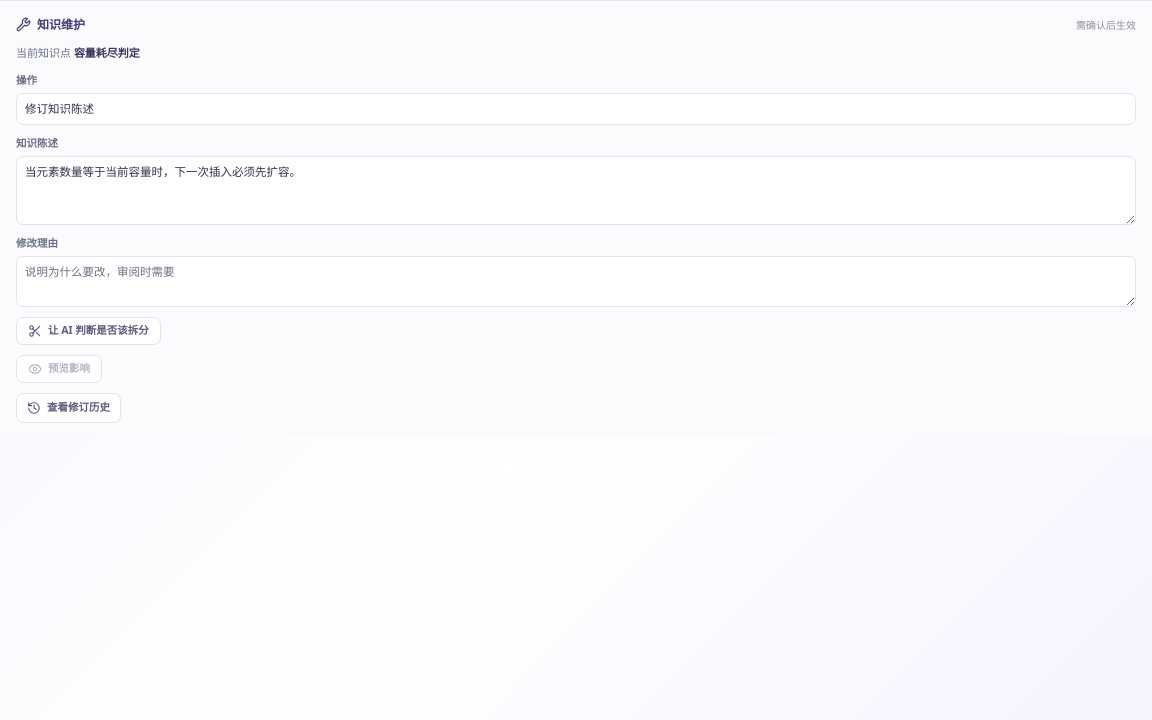
Test: 知识维护面板 › 预览后展示影响面并明确说明尚未生效
Type "补充扩容触发条件的精确表述" into the text box labelled "修改理由" at (576, 281), box [16,256,1136,306]
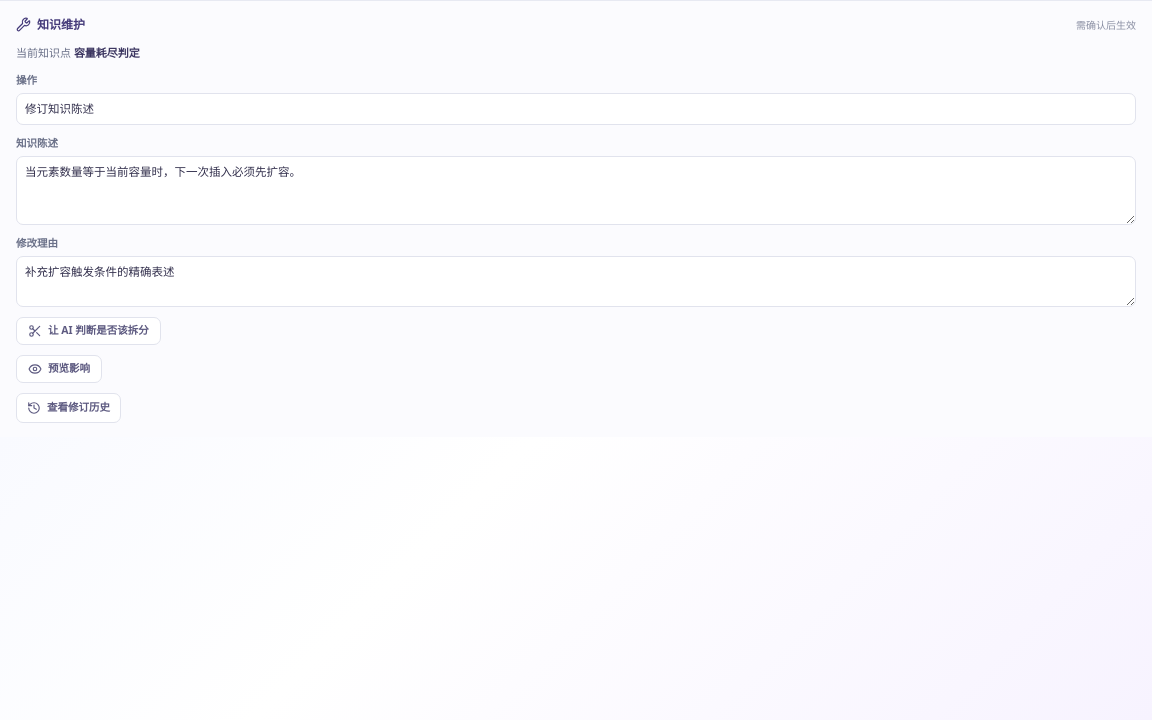
Click the button with class "is-preview" at (59, 368), box [16,354,102,382]
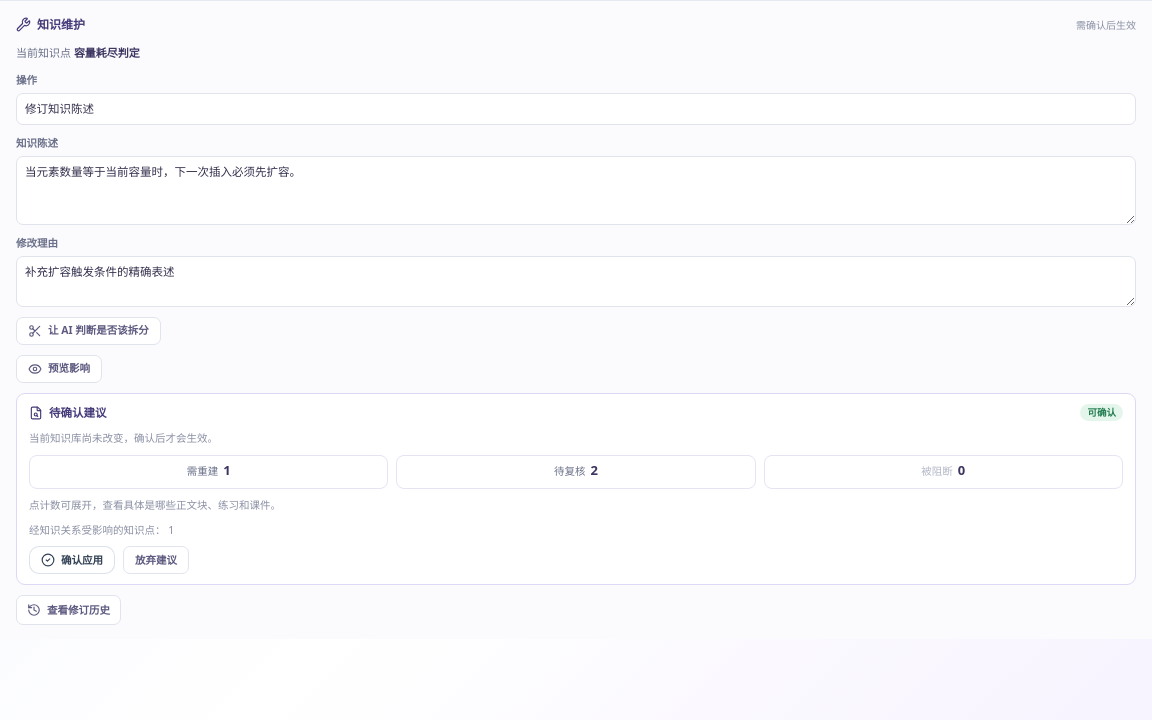
Expected: the text "待确认建议" is shown, [49,404,106,422]
Expected: the text "当前知识库尚未改变，确认后才会生效。" is shown, [29,431,218,445]
Expected: the text "经知识关系受影响的知识点" is shown, [29,522,174,536]
